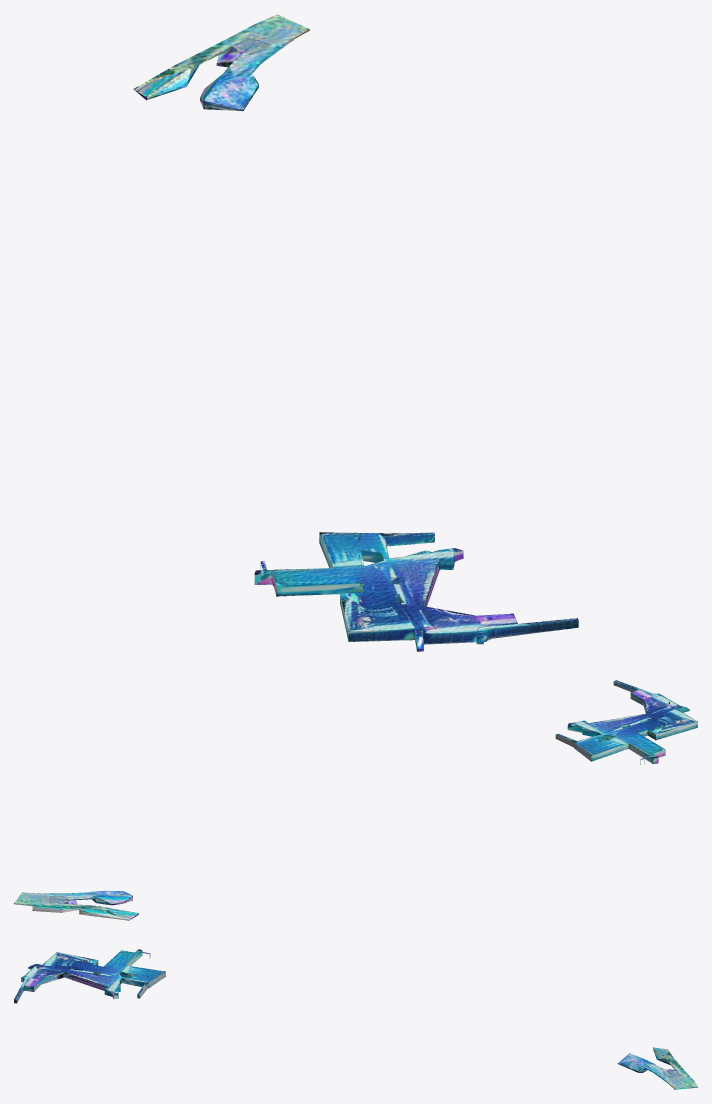
The model's file is 0-0-brid.fbx.
3 views of the same model, one above another, from view 1: azimuth 30°, elevation 25°; view 2: azimuth 150°, elevation 25°; view 3: azimuth 270°, elevation 25° (orthographic). The views are drawn at different scales.
Visible parts, largest first — view 1: Mesh_0; view 2: Mesh_0; view 3: Mesh_0.
Part boxes in pixels (x1,y1,x2,y2): Mesh_0: [133, 14, 578, 651]; Mesh_0: [14, 680, 697, 920]; Mesh_0: [14, 949, 697, 1089].
Size of the model in its own units: 49.92 by 1.57 by 100.
Materials: 1 (1 with a texture image).
